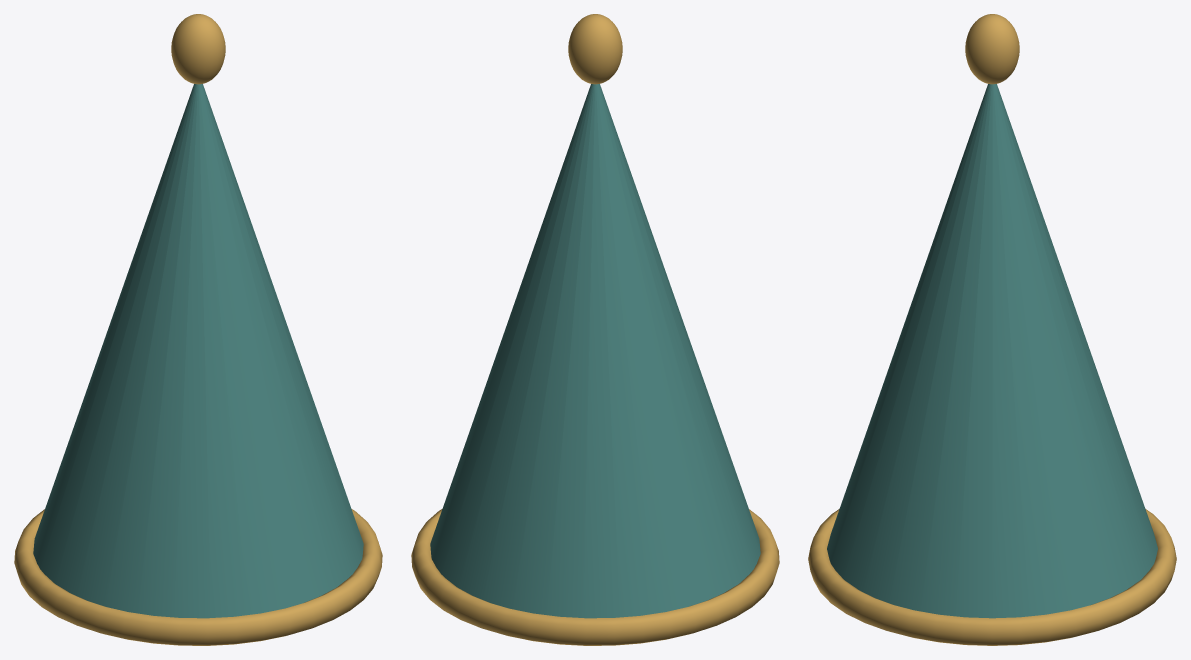
The model's file is wp-chapeau-de-fete.glb.
The picture shows the model from 3 angles, left to right: view 1: azimuth 30°, elevation 25°; view 2: azimuth 150°, elevation 25°; view 3: azimuth 270°, elevation 25°; orthographic projection.
Visible parts, largest first — view 1: wp-chapeau-de-fete; view 2: wp-chapeau-de-fete; view 3: wp-chapeau-de-fete.
Part boxes in pixels (x1,y1,x2,y2): wp-chapeau-de-fete: (14,14,382,645); wp-chapeau-de-fete: (411,14,779,645); wp-chapeau-de-fete: (808,14,1176,645).
Size of the model in its own units: 0.18 by 0.3 by 0.18.
